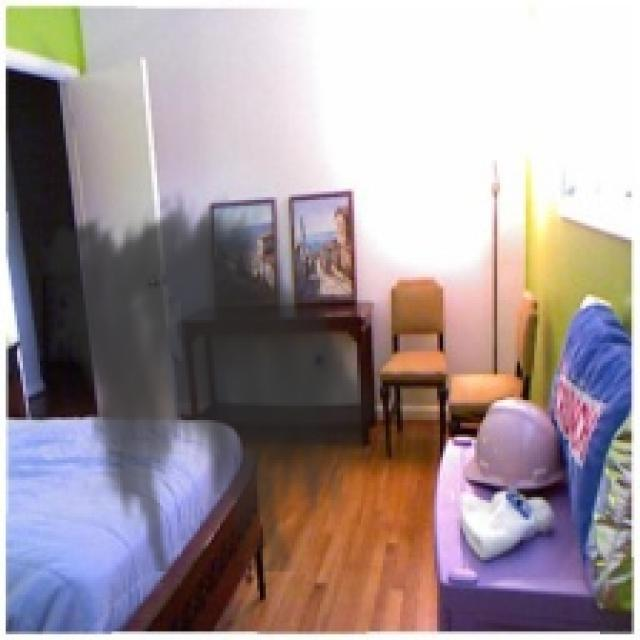smoke: (26, 186, 388, 571)
